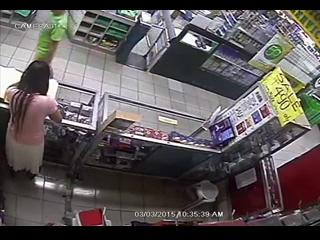Normal: (4, 60, 64, 180)
